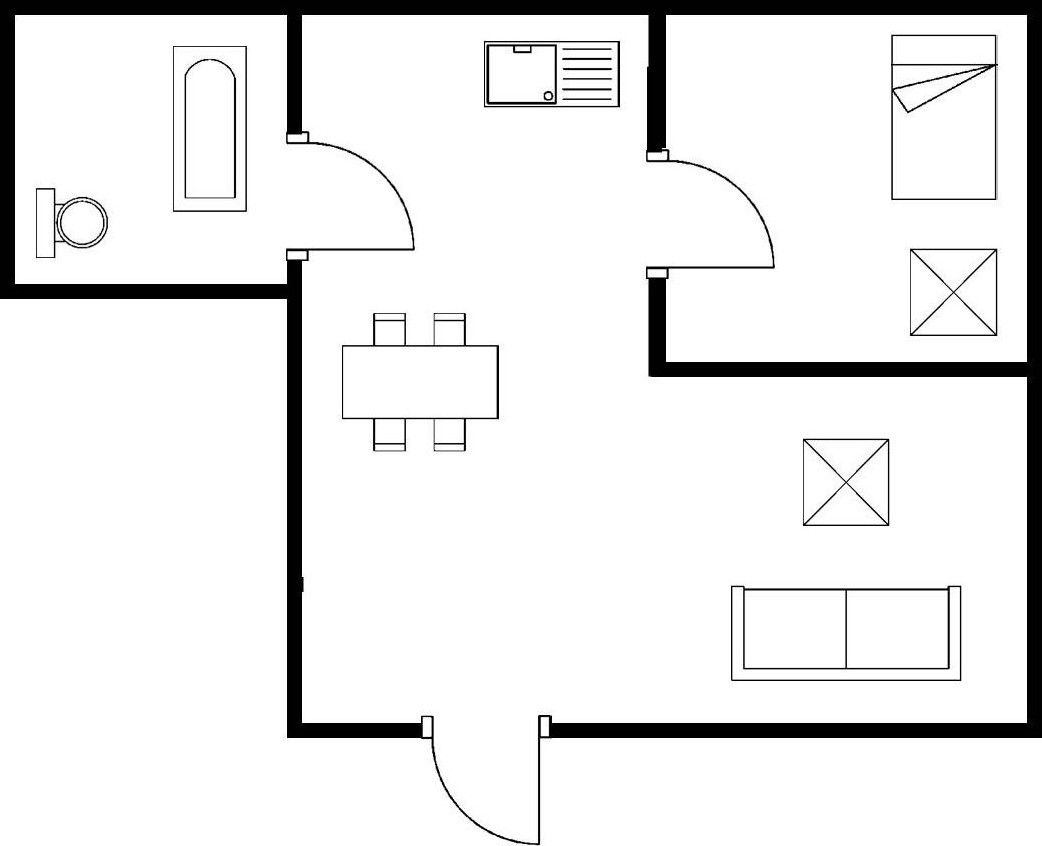bed: (885, 30, 1003, 206)
coffee_table: (797, 433, 895, 532), (905, 244, 1001, 341)
dining_table: (337, 308, 506, 457)
large_sink: (30, 184, 111, 264)
large_sofa: (728, 581, 968, 685)
sink: (481, 36, 625, 113)
tub: (164, 41, 254, 217)
